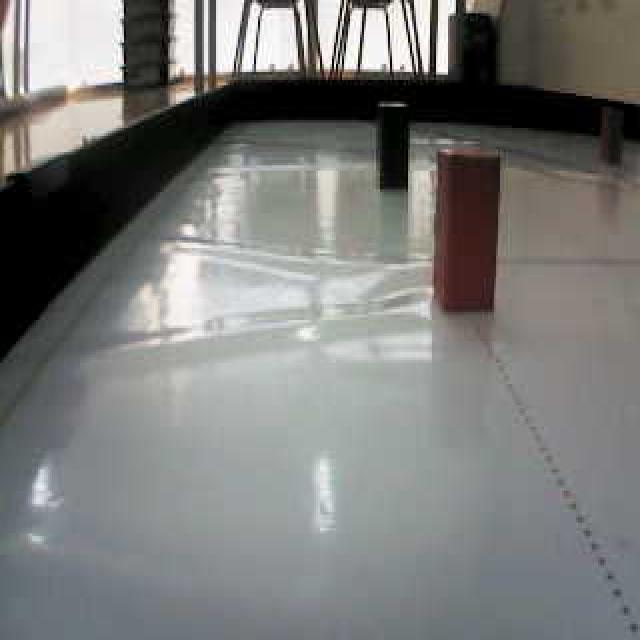rojo: (438, 151, 506, 311)
verde: (373, 90, 415, 194)
